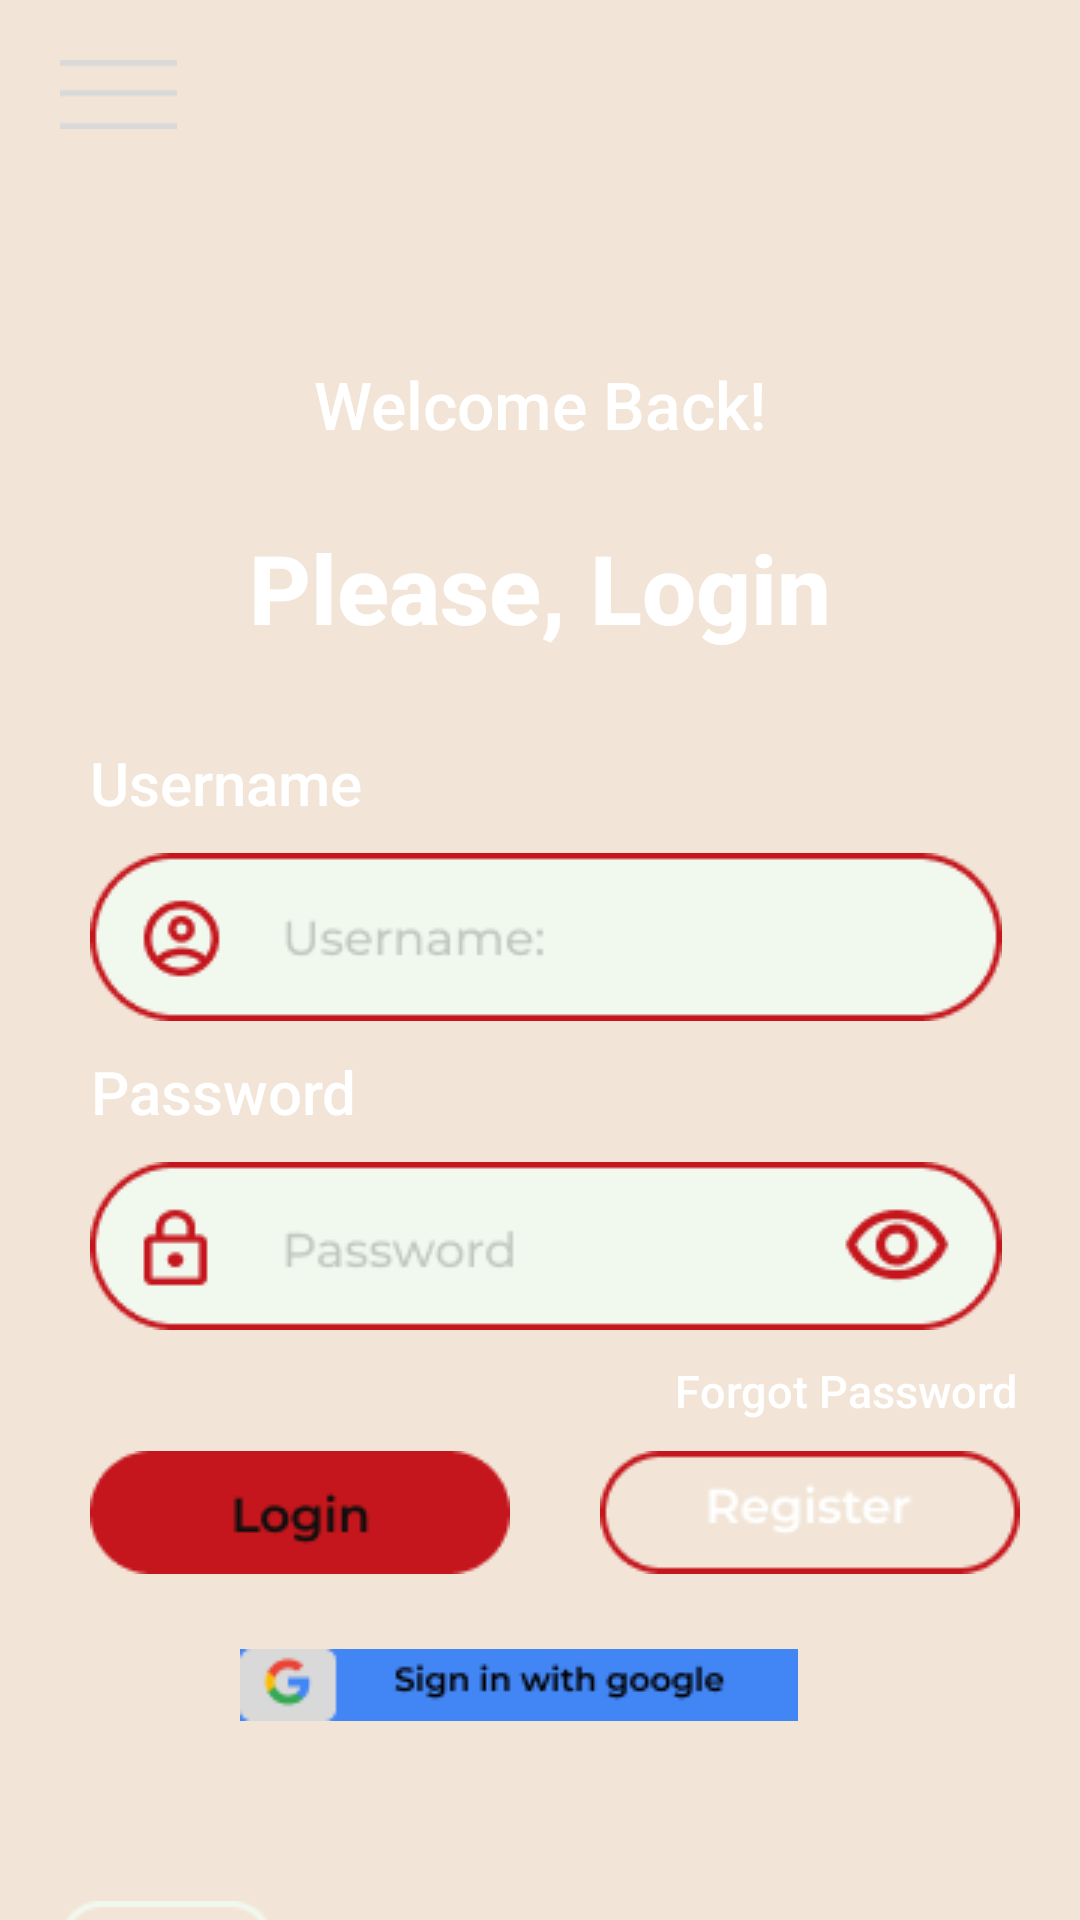

Where to tap for icons on this 1080 x 1920 app screen, as point (x, y):
bar: point (118, 94)
